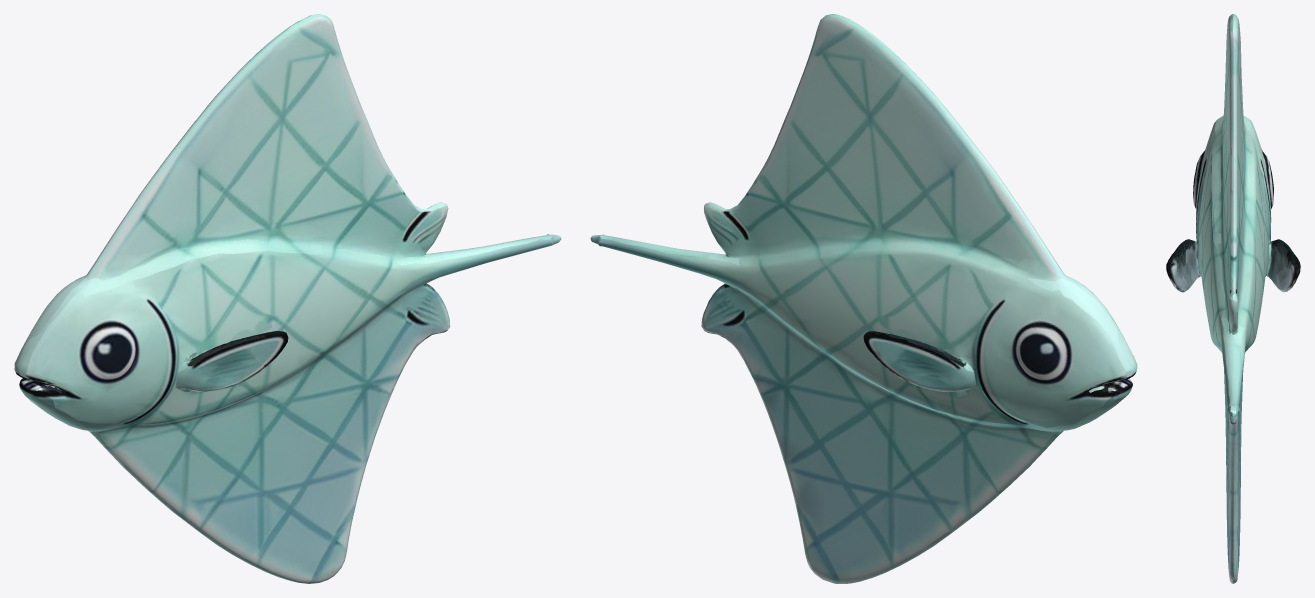
Rendered from fish_paneray.glb.
The picture shows the model from 3 angles, left to right: view 1: azimuth 30°, elevation 25°; view 2: azimuth 150°, elevation 25°; view 3: azimuth 270°, elevation 25°; orthographic projection.
Parts seen in each view (by area): view 1: fish_paneray; view 2: fish_paneray; view 3: fish_paneray.
Part boxes in pixels (box(x1,y1,x2,y2)): fish_paneray: box(14, 14, 561, 583); fish_paneray: box(590, 14, 1137, 583); fish_paneray: box(1166, 14, 1300, 583).
Bounding box in the file's own units: 1 × 0.9999 × 0.2179.
1 material, 1 textured.
